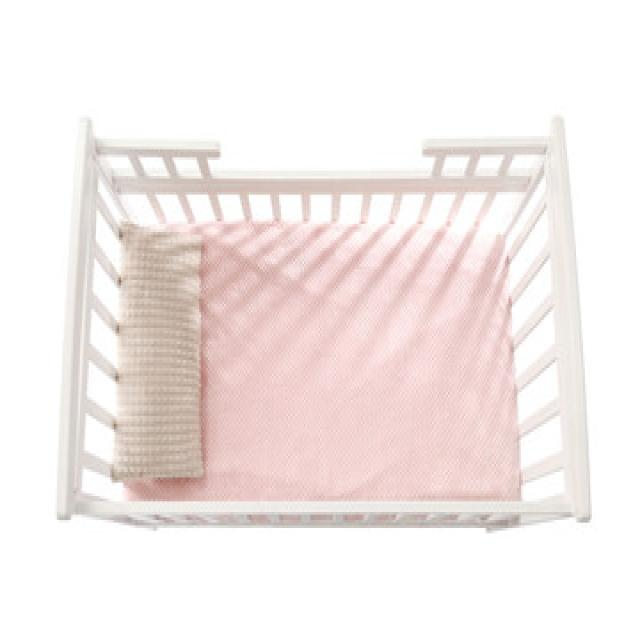crib: (78, 136, 570, 509)
